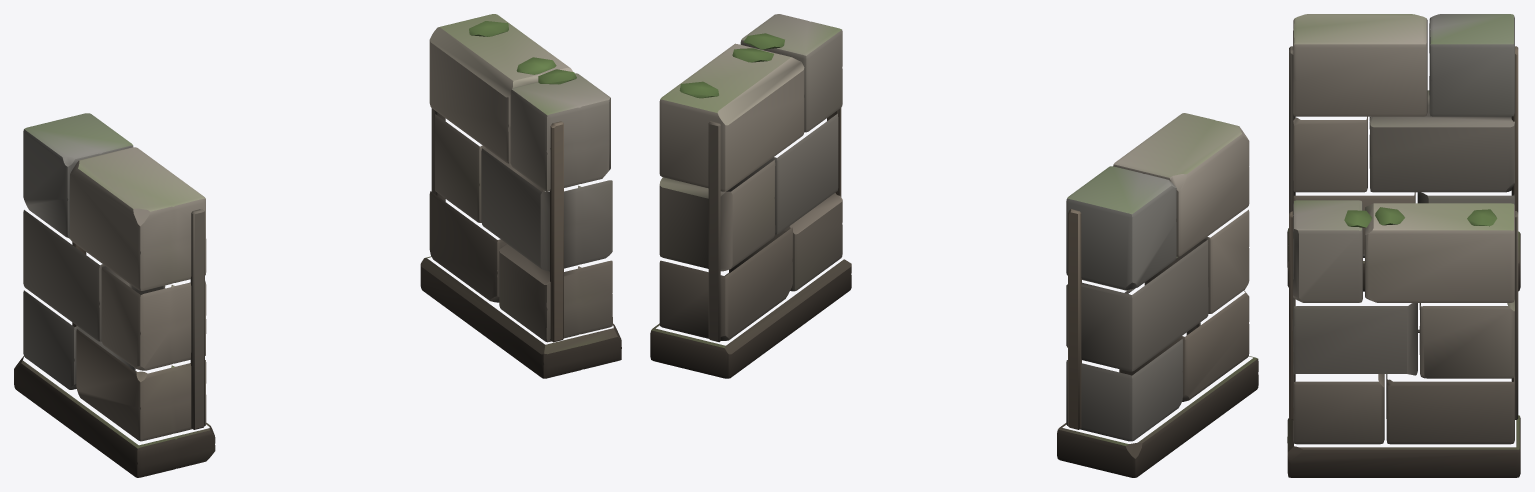
Rendered from ruins-doorframe-v3.glb.
3 views of the same model, side by side, from view 1: azimuth 30°, elevation 25°; view 2: azimuth 150°, elevation 25°; view 3: azimuth 270°, elevation 25° (orthographic). The views are drawn at different scales.
Visible parts, largest first — view 1: 0_ruins_doorframe; view 2: 0_ruins_doorframe; view 3: 0_ruins_doorframe.
Part boxes in pixels (x1,y1,x2,y2): 0_ruins_doorframe: (14, 14, 621, 477); 0_ruins_doorframe: (650, 14, 1258, 477); 0_ruins_doorframe: (1287, 14, 1520, 477).
Bounding box in the file's own units: 4.74 × 2.49 × 2.1.
